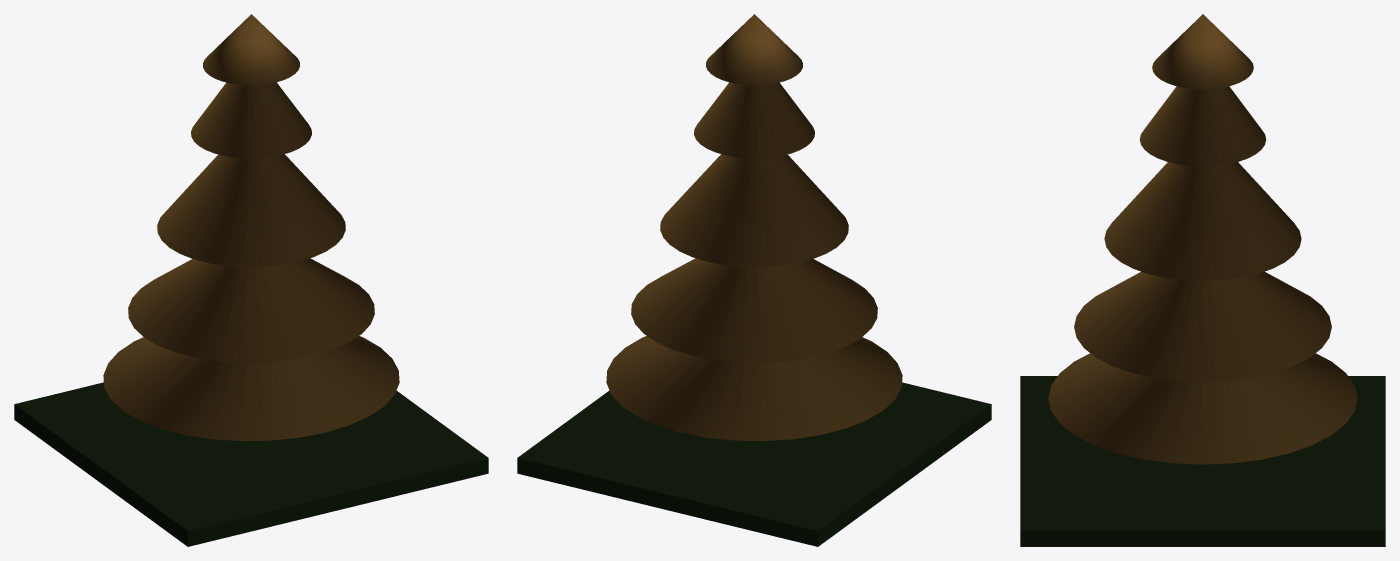
The model's file is burnttree.glb.
3 views of the same model, side by side, from view 1: azimuth 30°, elevation 25°; view 2: azimuth 150°, elevation 25°; view 3: azimuth 270°, elevation 25° (orthographic). The views are drawn at different scales.
Parts seen in each view (by area): view 1: Cylinder.001, Cube; view 2: Cylinder.001, Cube; view 3: Cylinder.001, Cube.
Boxes of the visible parts, x1,y1,x2,y2 form: Cylinder.001: (103,14,399,441); Cube: (14,382,488,546); Cylinder.001: (606,14,902,441); Cube: (517,382,991,546); Cylinder.001: (1048,14,1357,464); Cube: (1020,376,1385,546).
Size of the model in its own units: 0.05 by 0.0688 by 0.05.
